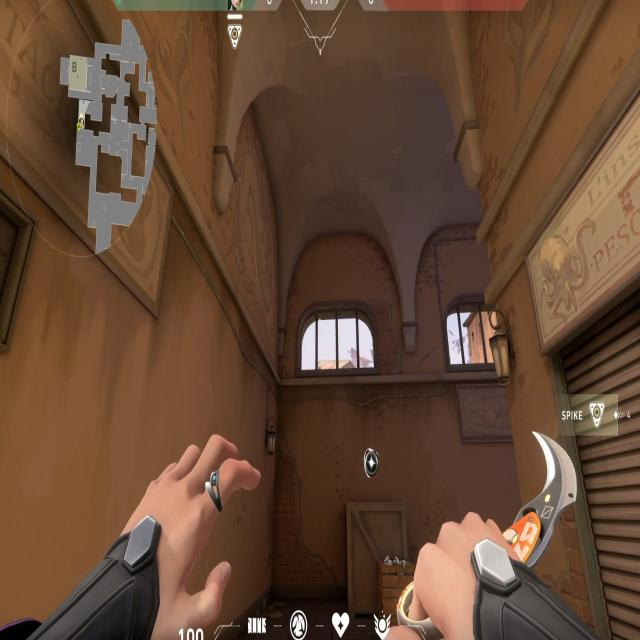B_Main_Wallbang: (343, 443, 419, 631)
Throwables: (296, 295, 384, 389), (439, 301, 504, 377)
